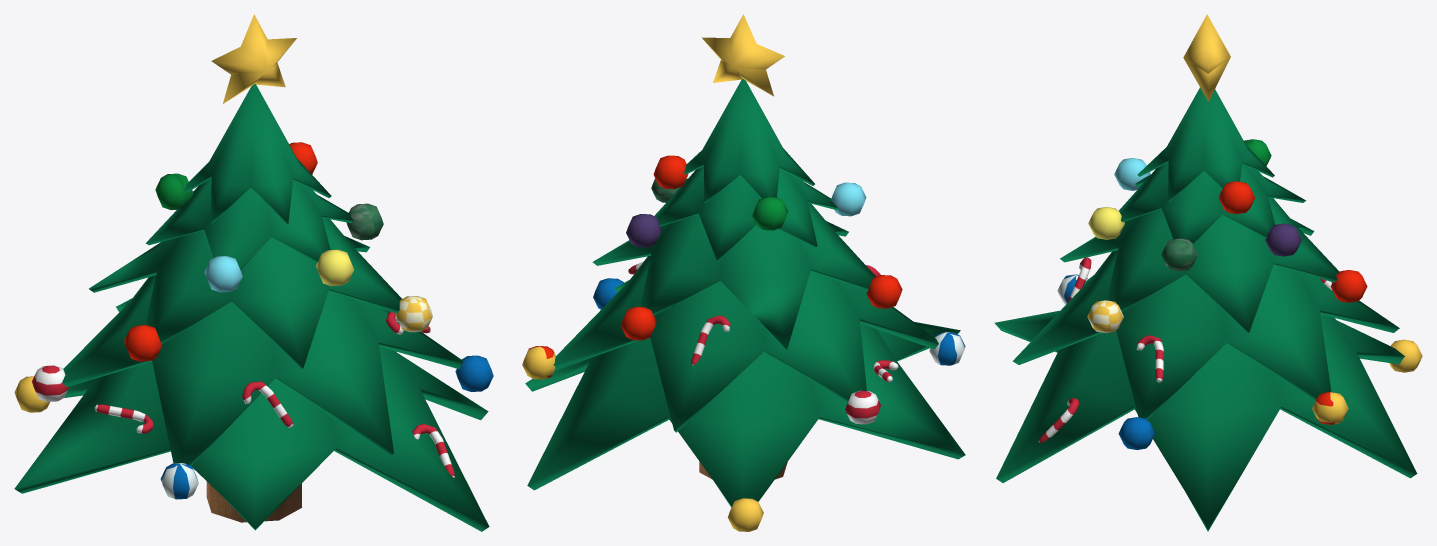
File: XmasTree.glb
The picture shows the model from 3 angles, left to right: view 1: azimuth 30°, elevation 25°; view 2: azimuth 150°, elevation 25°; view 3: azimuth 270°, elevation 25°; orthographic projection. The views are drawn at different scales.
Visible parts, largest first — view 1: XmasTree; view 2: XmasTree; view 3: XmasTree.
Part boxes in pixels (x1,y1,x2,y2): XmasTree: (14,14,493,531); XmasTree: (522,14,965,531); XmasTree: (994,14,1422,531).
Bounding box in the file's own units: 4.12 × 4.05 × 3.56.
Materials: 2 (2 with a texture image).
